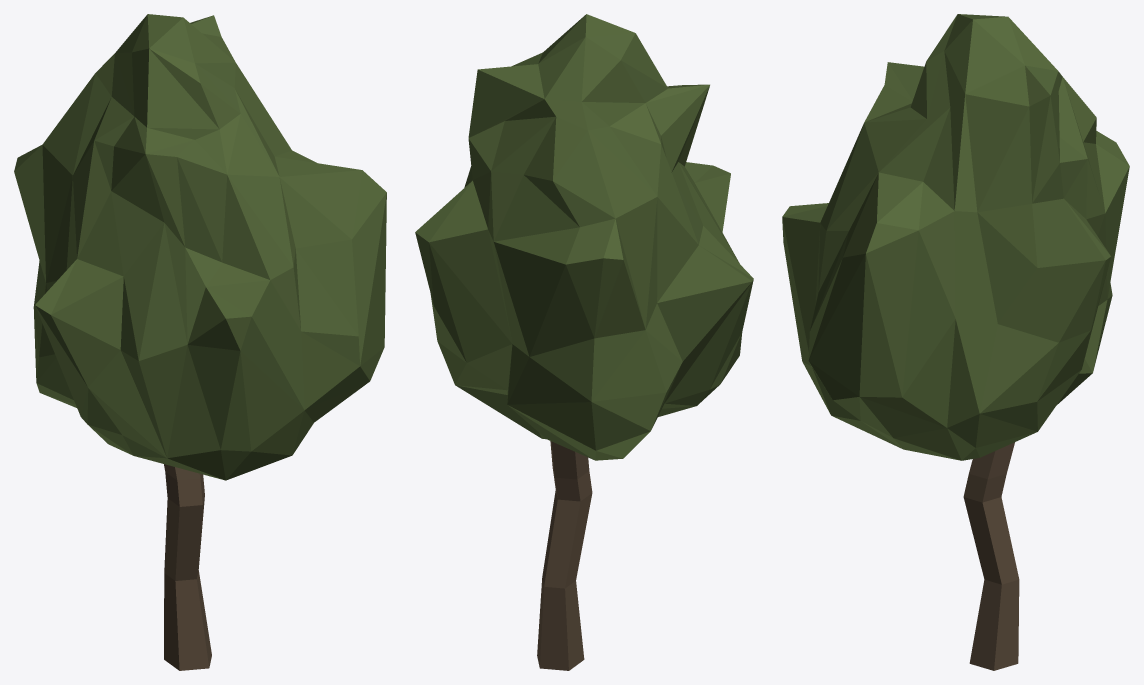
File: tree_11.fbx
The picture shows the model from 3 angles, left to right: view 1: azimuth 30°, elevation 25°; view 2: azimuth 150°, elevation 25°; view 3: azimuth 270°, elevation 25°; orthographic projection. The views are drawn at different scales.
Parts seen in each view (by area): view 1: tree_011; view 2: tree_011; view 3: tree_011.
Boxes of the visible parts, box(x1,y1,x2,y2) form: tree_011: box(14, 14, 386, 670); tree_011: box(415, 14, 753, 670); tree_011: box(782, 14, 1129, 670).
Size of the model in its own units: 0.4189 by 0.8553 by 0.4258.
1 material, 1 textured.
